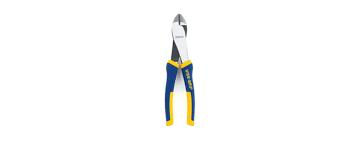pliers: (163, 13, 195, 126)
